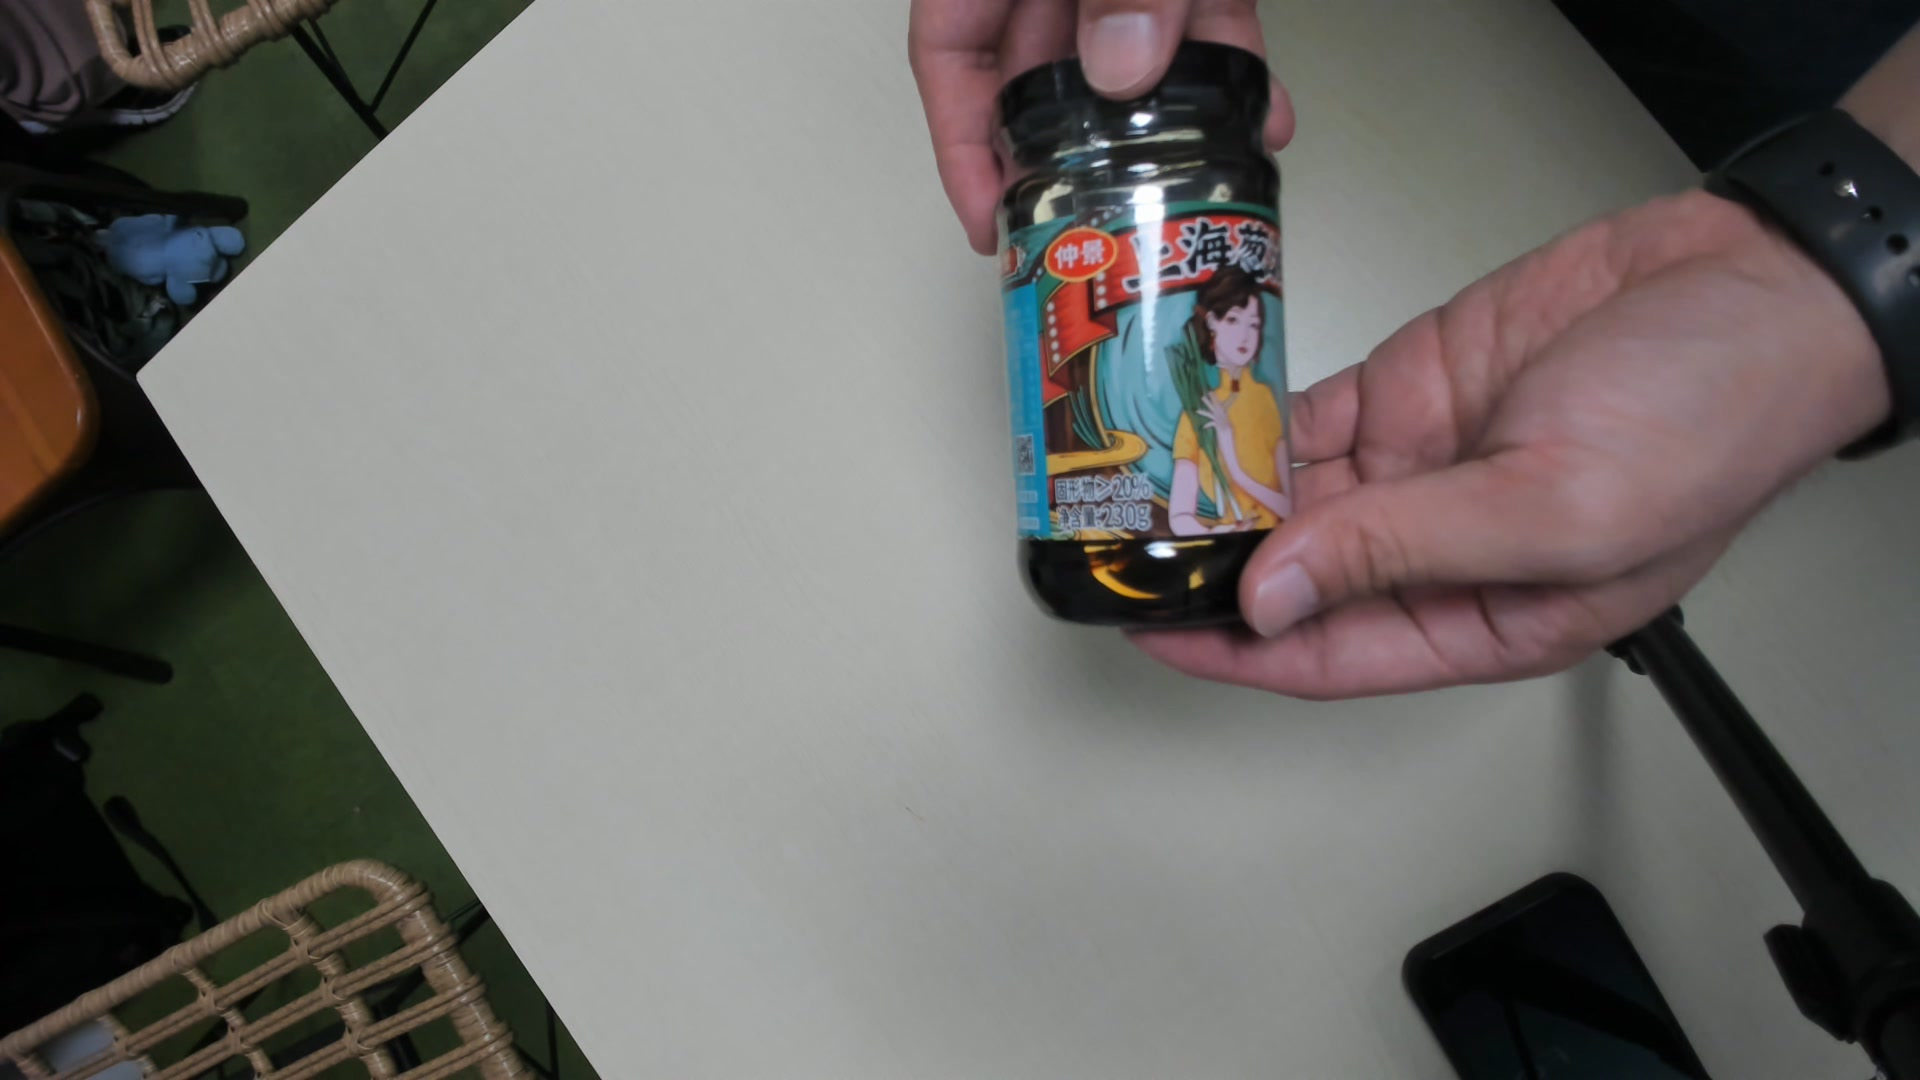OtherSauceDressing_200-299g_NonHalal_NonHealthy: (992, 47, 1296, 625)
